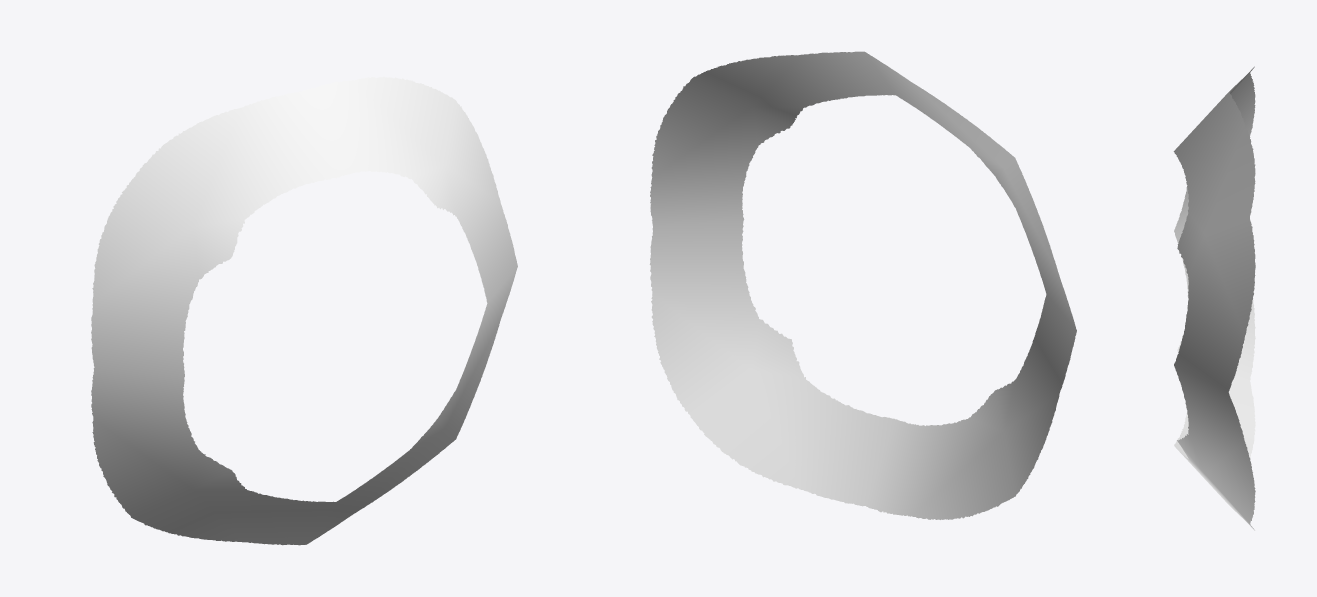
The model's file is speed_up.obj.
3 renders of one model, left to right at view 1: azimuth 30°, elevation 25°; view 2: azimuth 150°, elevation 25°; view 3: azimuth 270°, elevation 25°, orthographic. The views are drawn at different scales.
Visible parts, largest first — view 1: Plane001; view 2: Plane001; view 3: Plane001.
Part boxes in pixels (<box>): Plane001: <box>91,76,517,545</box>; Plane001: <box>649,51,1076,519</box>; Plane001: <box>1173,66,1255,530</box>.
Size of the model in its own units: 448 by 459 by 137.
1 material, 1 textured.
